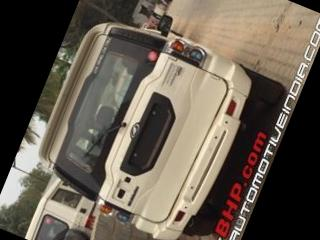plate: (116, 79, 190, 185)
